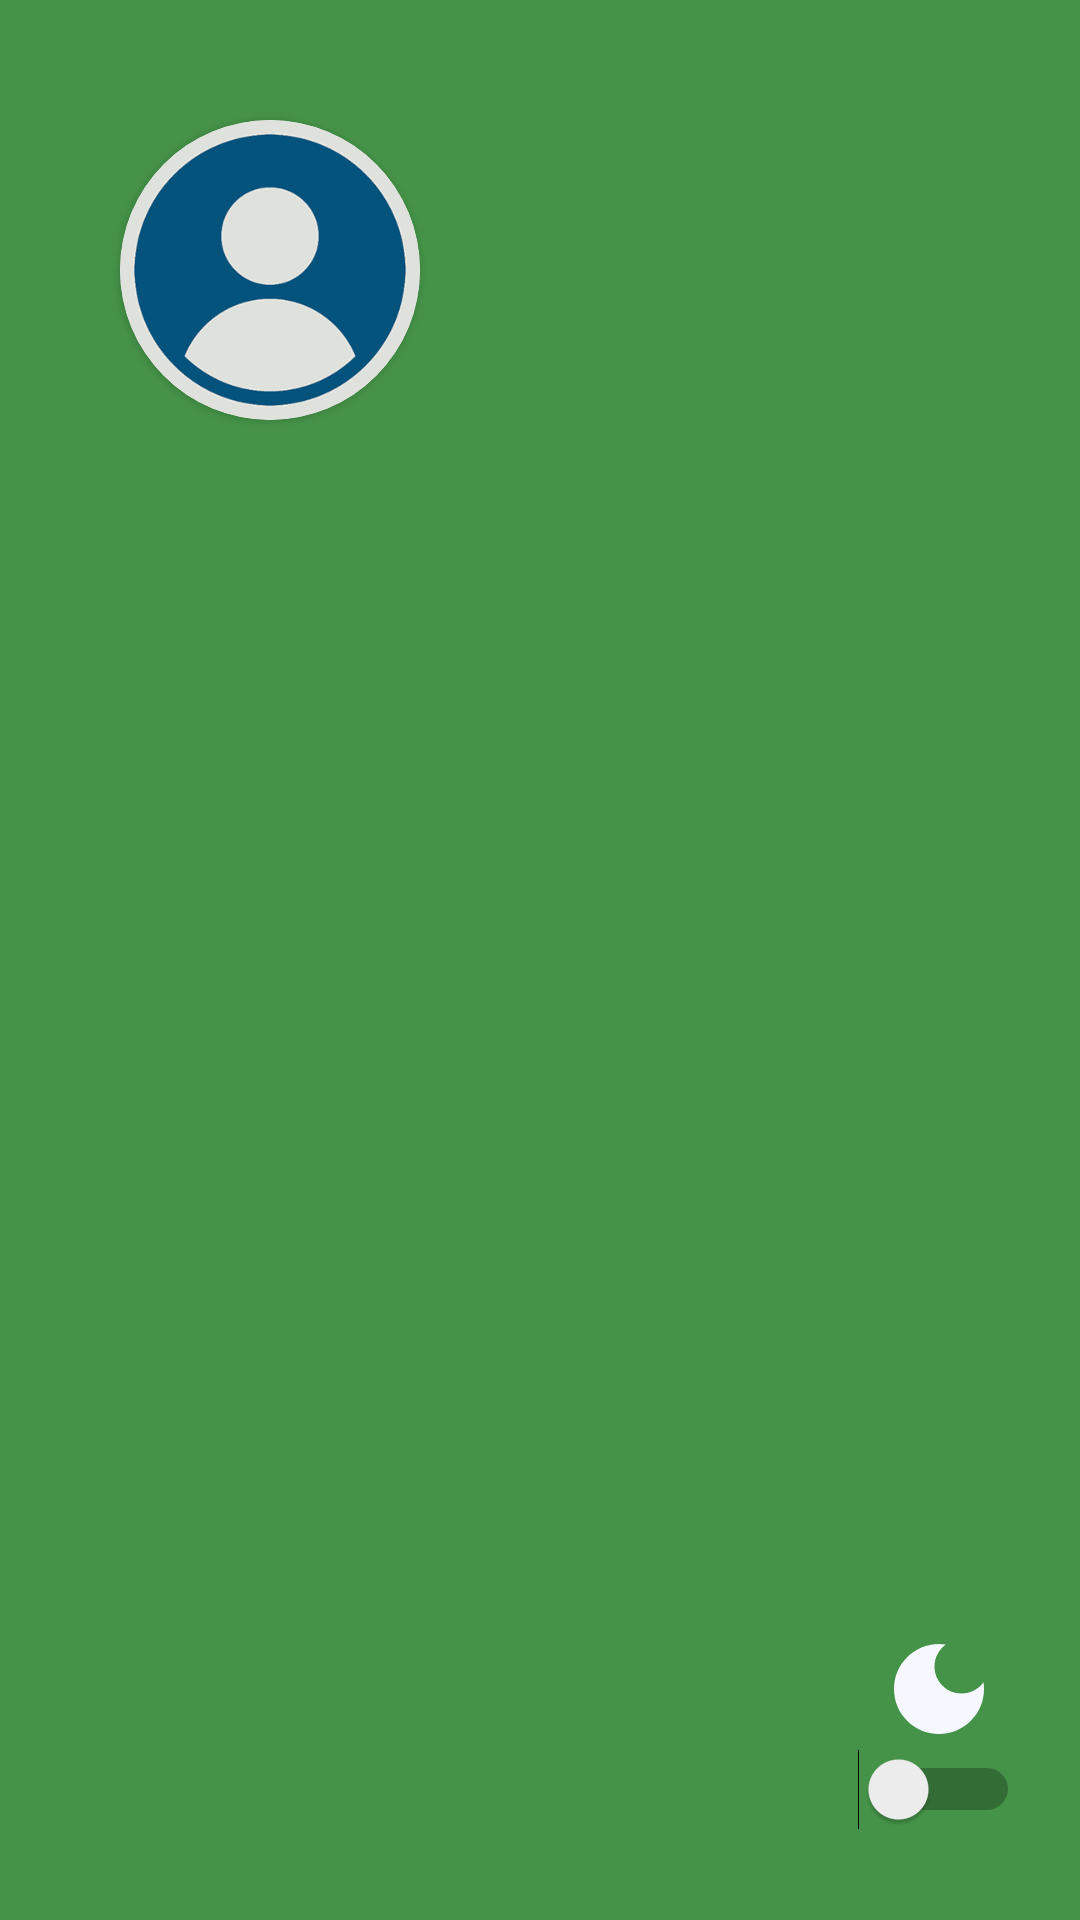

Icon bounding boxes for this 1080 x 1920 phone screenshot, format (x1, y1, x2, y2):
day night: (894, 1644, 984, 1734)
